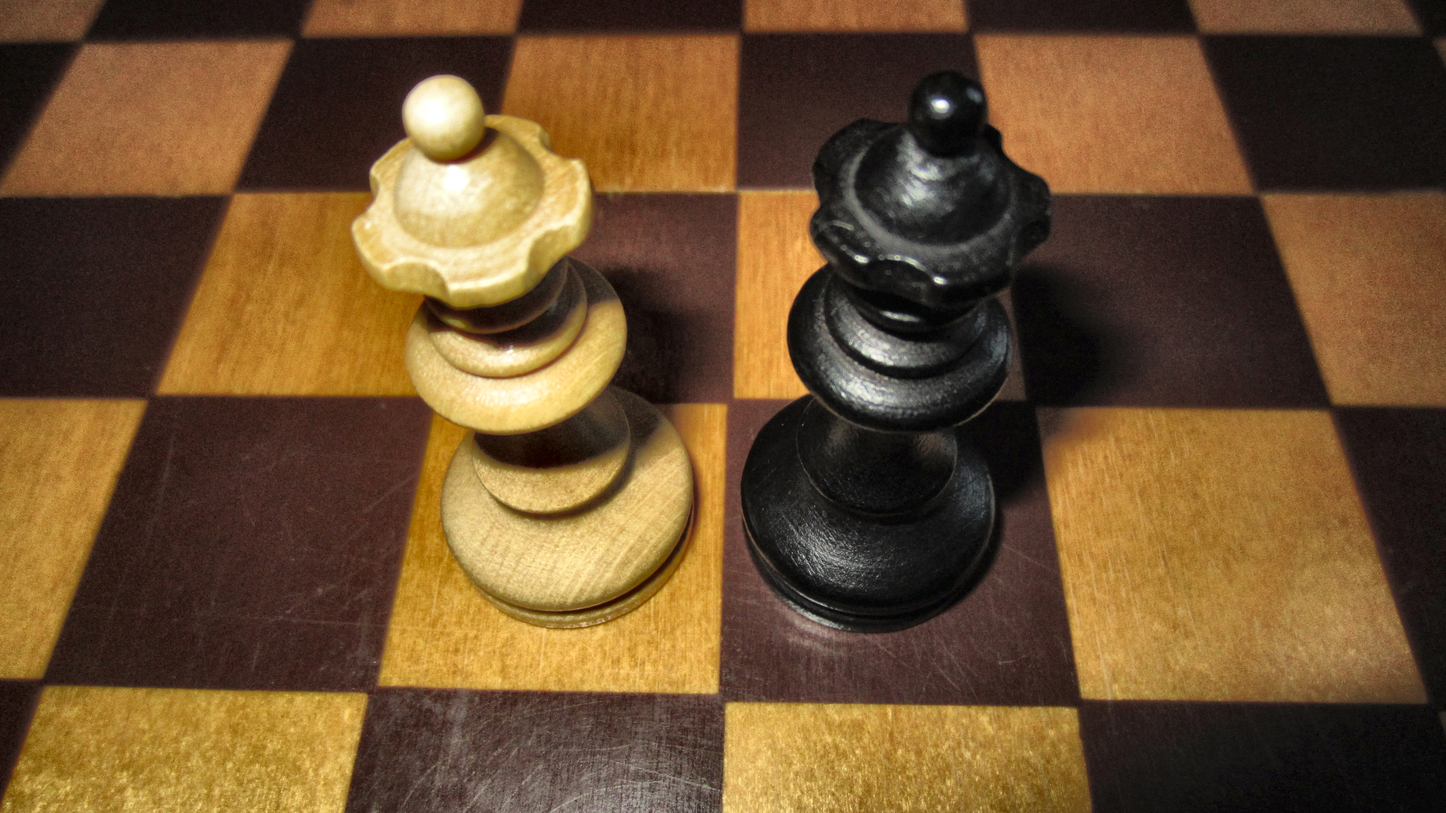black-queen: (736, 72, 1060, 633)
white-queen: (347, 68, 701, 634)
